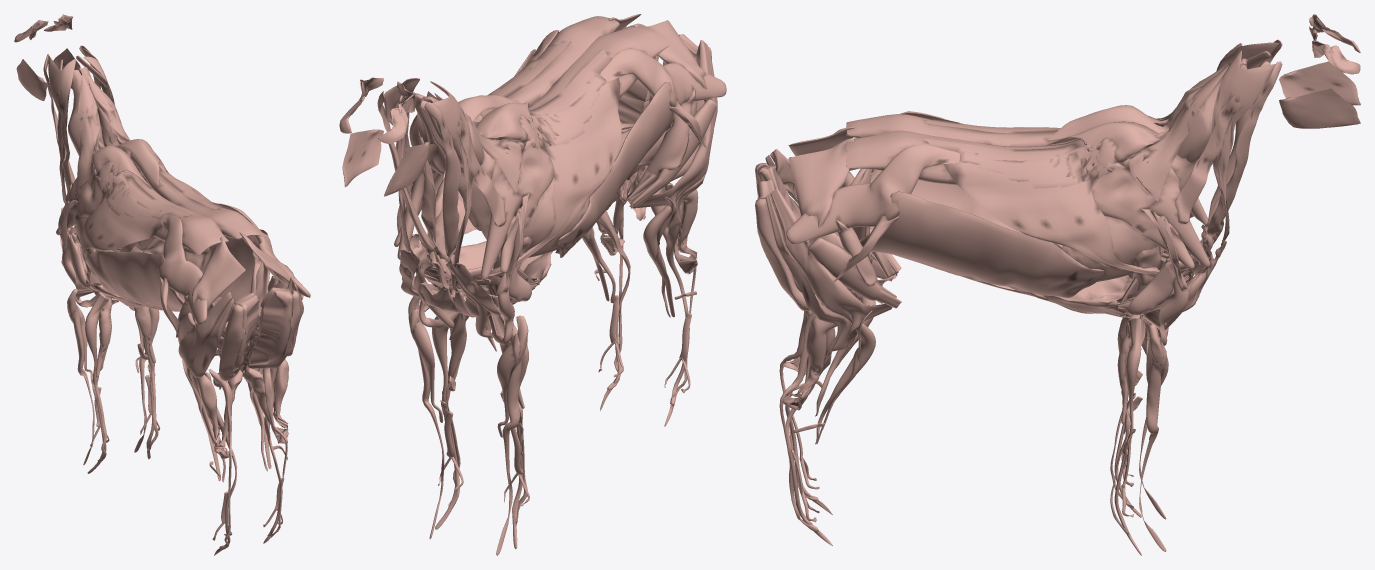
The model's file is muscular.glb.
3 views of the same model, side by side, from view 1: azimuth 30°, elevation 25°; view 2: azimuth 150°, elevation 25°; view 3: azimuth 270°, elevation 25° (orthographic). The views are drawn at different scales.
Visible parts, largest first — view 1: horse_muscular_epaxial_L, horse_muscular_latissimus-dorsi_L, horse_muscular_obliquus-externus-abdominis_L, horse_muscular_epaxial_R, horse_muscular_trapezius_L, horse_muscular_gluteus-medius_L, horse_muscular_semimembranosus_R, horse_muscular_trapezius_R, horse_muscular_obliquus-externus-abdominis_R, horse_muscular_gluteus-superficialis_L, horse_muscular_brachiocephalicus_cleidocephalicus_L, horse_muscular_biceps-femoris_cranial_L (+36 smaller); view 2: horse_muscular_latissimus-dorsi_L, horse_muscular_epaxial_L, horse_muscular_epaxial_R, horse_muscular_obliquus-externus-abdominis_L, horse_muscular_gluteus-medius_L, horse_muscular_trapezius_L, horse_muscular_serratus-ventralis_L, horse_muscular_infraspinatus_L, horse_muscular_sternocephalicus_L, horse_muscular_supraspinatus_L, horse_muscular_biceps-femoris_cranial_L, horse_muscular_quadriceps-femoris_rectus-femoris_L (+48 smaller); view 3: horse_muscular_obliquus-externus-abdominis_R, horse_muscular_latissimus-dorsi_R, horse_muscular_epaxial_R, horse_muscular_gluteus-medius_R, horse_muscular_trapezius_R, horse_muscular_infraspinatus_R, horse_muscular_epaxial_L, horse_muscular_biceps-femoris_cranial_R, horse_muscular_brachiocephalicus_cleidocephalicus_R, horse_muscular_gluteus-superficialis_R, horse_muscular_serratus-ventralis_R, horse_muscular_masseter_R (+29 smaller).
Part boxes in pixels (left/top/right/bottom): horse_muscular_epaxial_L: left=68, top=69, right=228, bottom=255; horse_muscular_latissimus-dorsi_L: left=80, top=172, right=191, bottom=254; horse_muscular_obliquus-externus-abdominis_L: left=84, top=251, right=184, bottom=311; horse_muscular_epaxial_R: left=79, top=67, right=267, bottom=239; horse_muscular_trapezius_L: left=75, top=74, right=151, bottom=192; horse_muscular_gluteus-medius_L: left=158, top=214, right=207, bottom=325; horse_muscular_semimembranosus_R: left=243, top=287, right=293, bottom=364; horse_muscular_trapezius_R: left=87, top=74, right=162, bottom=186; horse_muscular_obliquus-externus-abdominis_R: left=184, top=229, right=269, bottom=316; horse_muscular_gluteus-superficialis_L: left=191, top=236, right=245, bottom=328; horse_muscular_brachiocephalicus_cleidocephalicus_L: left=48, top=55, right=75, bottom=203; horse_muscular_biceps-femoris_cranial_L: left=178, top=292, right=232, bottom=392; horse_muscular_latissimus-dorsi_L: left=473, top=49, right=621, bottom=277; horse_muscular_epaxial_L: left=424, top=25, right=670, bottom=165; horse_muscular_epaxial_R: left=409, top=16, right=619, bottom=174; horse_muscular_obliquus-externus-abdominis_L: left=555, top=82, right=673, bottom=257; horse_muscular_gluteus-medius_L: left=600, top=48, right=726, bottom=106; horse_muscular_trapezius_L: left=434, top=93, right=532, bottom=193; horse_muscular_serratus-ventralis_L: left=458, top=131, right=589, bottom=257; horse_muscular_infraspinatus_L: left=500, top=125, right=556, bottom=273; horse_muscular_sternocephalicus_L: left=424, top=102, right=460, bottom=290; horse_muscular_supraspinatus_L: left=480, top=114, right=536, bottom=280; horse_muscular_biceps-femoris_cranial_L: left=629, top=40, right=717, bottom=227; horse_muscular_quadriceps-femoris_rectus-femoris_L: left=627, top=90, right=695, bottom=202; horse_muscular_obliquus-externus-abdominis_R: left=859, top=191, right=1103, bottom=297; horse_muscular_latissimus-dorsi_R: left=923, top=137, right=1160, bottom=276; horse_muscular_epaxial_R: left=846, top=64, right=1247, bottom=188; horse_muscular_gluteus-medius_R: left=786, top=144, right=960, bottom=243; horse_muscular_trapezius_R: left=1047, top=65, right=1229, bottom=201; horse_muscular_infraspinatus_R: left=1077, top=153, right=1194, bottom=269; horse_muscular_epaxial_L: left=846, top=58, right=1248, bottom=146; horse_muscular_biceps-femoris_cranial_R: left=770, top=188, right=892, bottom=347; horse_muscular_brachiocephalicus_cleidocephalicus_R: left=1211, top=50, right=1275, bottom=240; horse_muscular_gluteus-superficialis_R: left=788, top=138, right=854, bottom=255; horse_muscular_serratus-ventralis_R: left=1061, top=130, right=1197, bottom=281; horse_muscular_masseter_R: left=1279, top=88, right=1360, bottom=128.
Size of the model in its own units: 0.6536 by 2 by 2.14.
